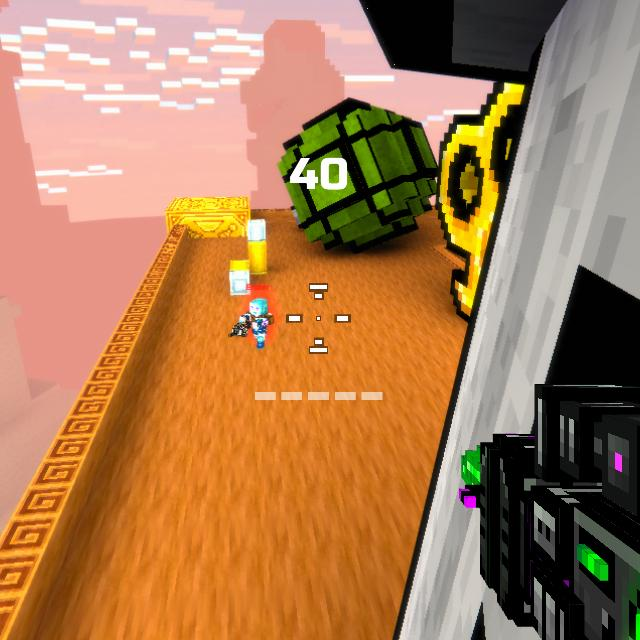Enemy: (239, 298, 274, 349)
